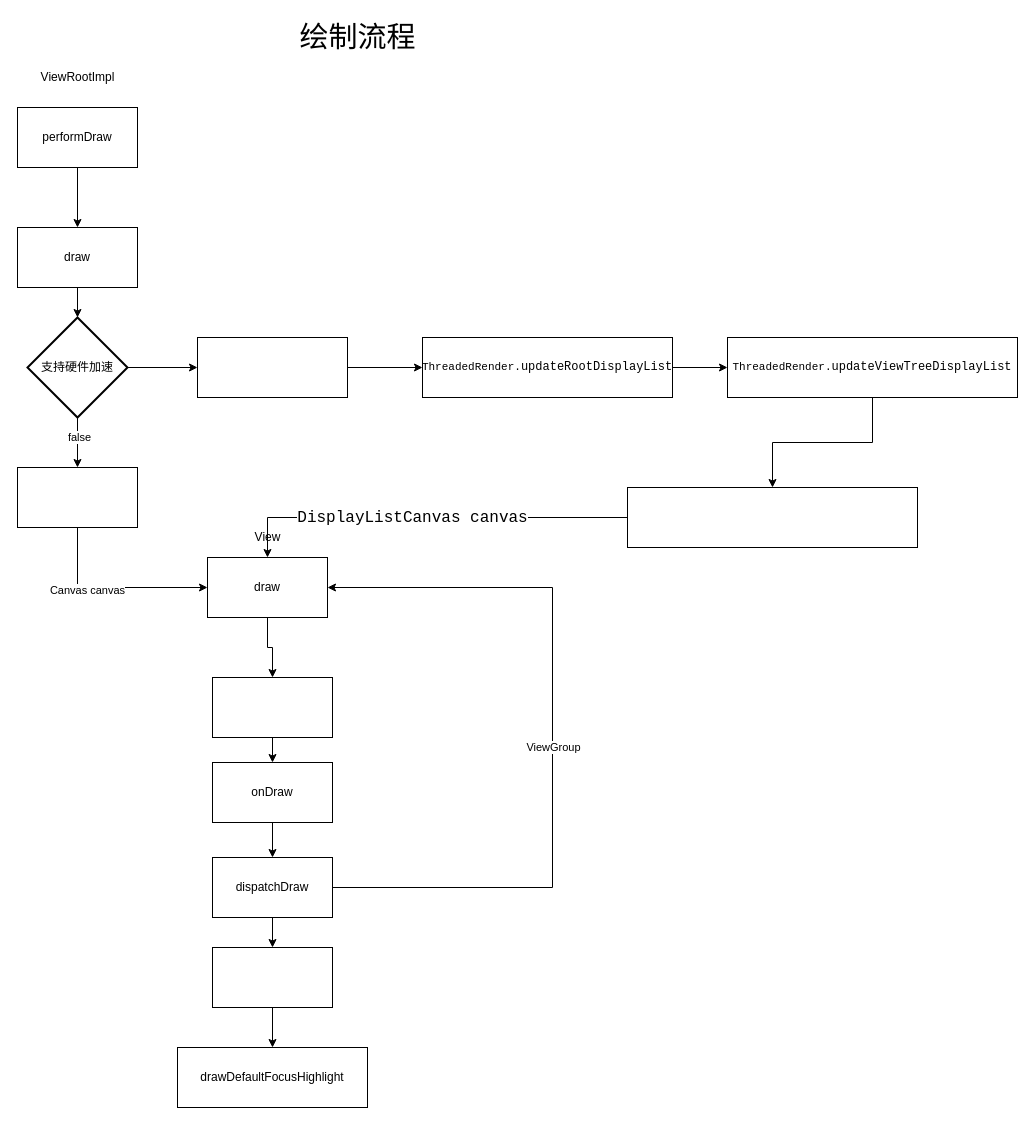
Image size: 1035x1125. Some labels were removed from this diagram. The shapes that lost their labels are listed below. From the top down, each one's centre as x and y in pixels, then its label:
the point at 272,367: ThreadedRender.draw
the point at 77,497: drawSoftware
the point at 772,517: View. updateDisplayListIfDirty
the point at 272,707: drawBackground
the point at 272,977: onDrawForeground
